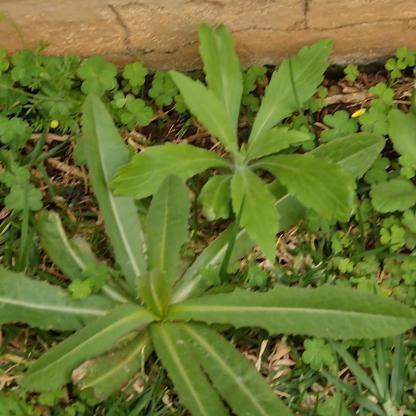Weeds: (2, 92, 415, 415), (111, 20, 359, 269)
